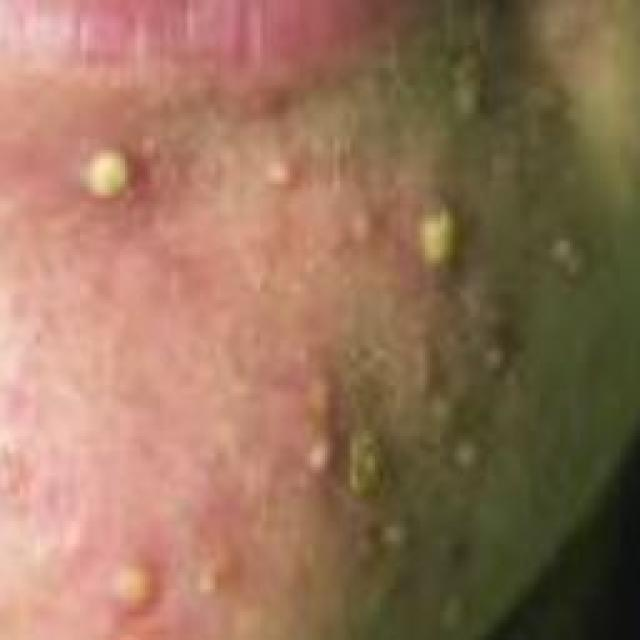pustule: (277, 331, 540, 581), (74, 520, 244, 616), (55, 116, 182, 241), (250, 137, 387, 247), (401, 190, 489, 301)
